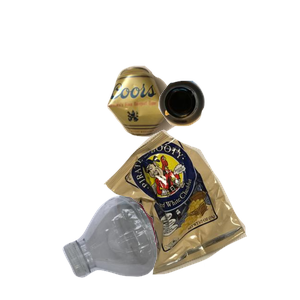glass: (156, 78, 300, 197)
metal: (105, 63, 300, 192)
plastic: (60, 190, 300, 280)
trash: (101, 127, 300, 300)
